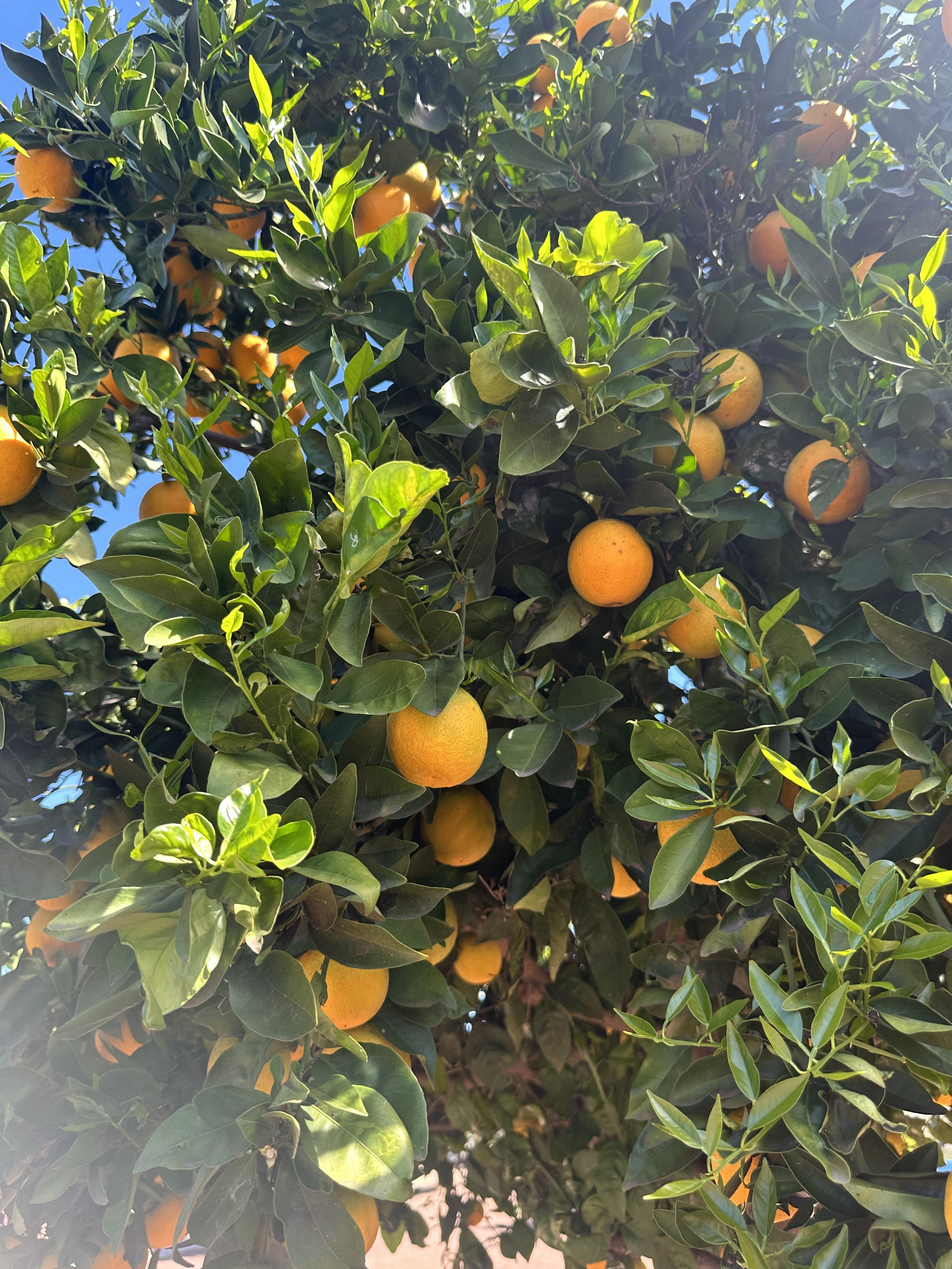orange: (656, 771, 761, 887), (386, 684, 488, 789), (296, 949, 390, 1030), (568, 519, 653, 607), (784, 439, 870, 525), (665, 574, 748, 660), (418, 783, 497, 865), (290, 1020, 411, 1069), (710, 1104, 762, 1216), (652, 406, 725, 483), (207, 1034, 291, 1095), (701, 348, 762, 430), (15, 145, 82, 214), (794, 100, 856, 171), (869, 736, 926, 811), (155, 253, 223, 315), (374, 160, 443, 220), (0, 407, 41, 506), (748, 623, 825, 672), (353, 184, 410, 250), (34, 838, 86, 910), (144, 1173, 192, 1249), (748, 211, 802, 278), (95, 1001, 152, 1064), (78, 799, 136, 859), (331, 1181, 378, 1254), (25, 907, 82, 967), (575, 1, 632, 59), (113, 333, 182, 377), (418, 894, 458, 966), (454, 932, 503, 984), (210, 194, 265, 240), (525, 34, 567, 94), (88, 367, 140, 415), (228, 334, 276, 384), (184, 363, 225, 419), (851, 252, 889, 311), (139, 481, 195, 519), (266, 378, 306, 425), (186, 332, 228, 374), (453, 462, 487, 511), (90, 1242, 149, 1269), (610, 854, 643, 899), (528, 95, 556, 139), (278, 344, 311, 380), (715, 161, 743, 195), (207, 420, 252, 439), (779, 777, 800, 814), (456, 188, 478, 223), (408, 244, 425, 283), (196, 305, 227, 326), (774, 1202, 800, 1223), (941, 0, 952, 49), (464, 1200, 484, 1226), (886, 1131, 907, 1155), (945, 1169, 952, 1241), (627, 639, 653, 650), (930, 1093, 952, 1105), (587, 1259, 608, 1269), (151, 193, 168, 204)
